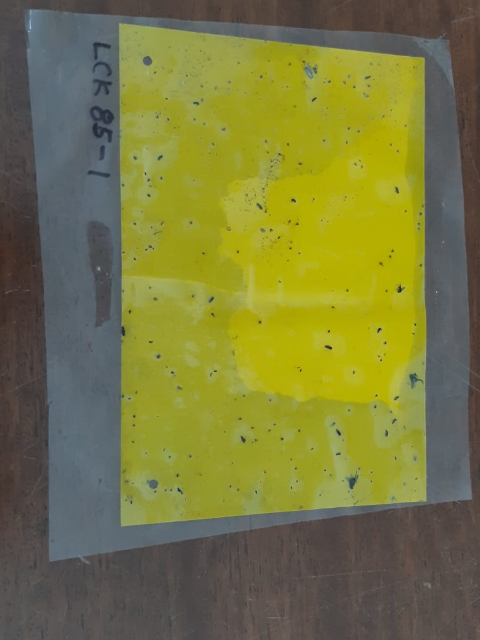DBM: (299, 61, 315, 81)
